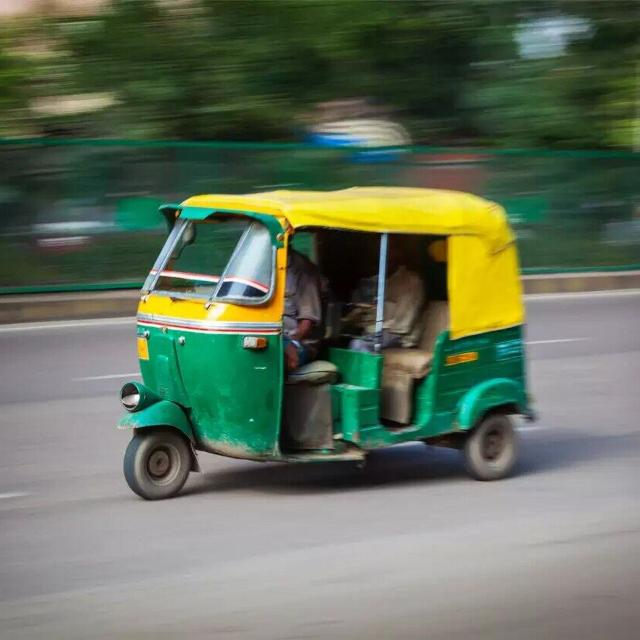autorickshaw: (119, 188, 532, 499)
